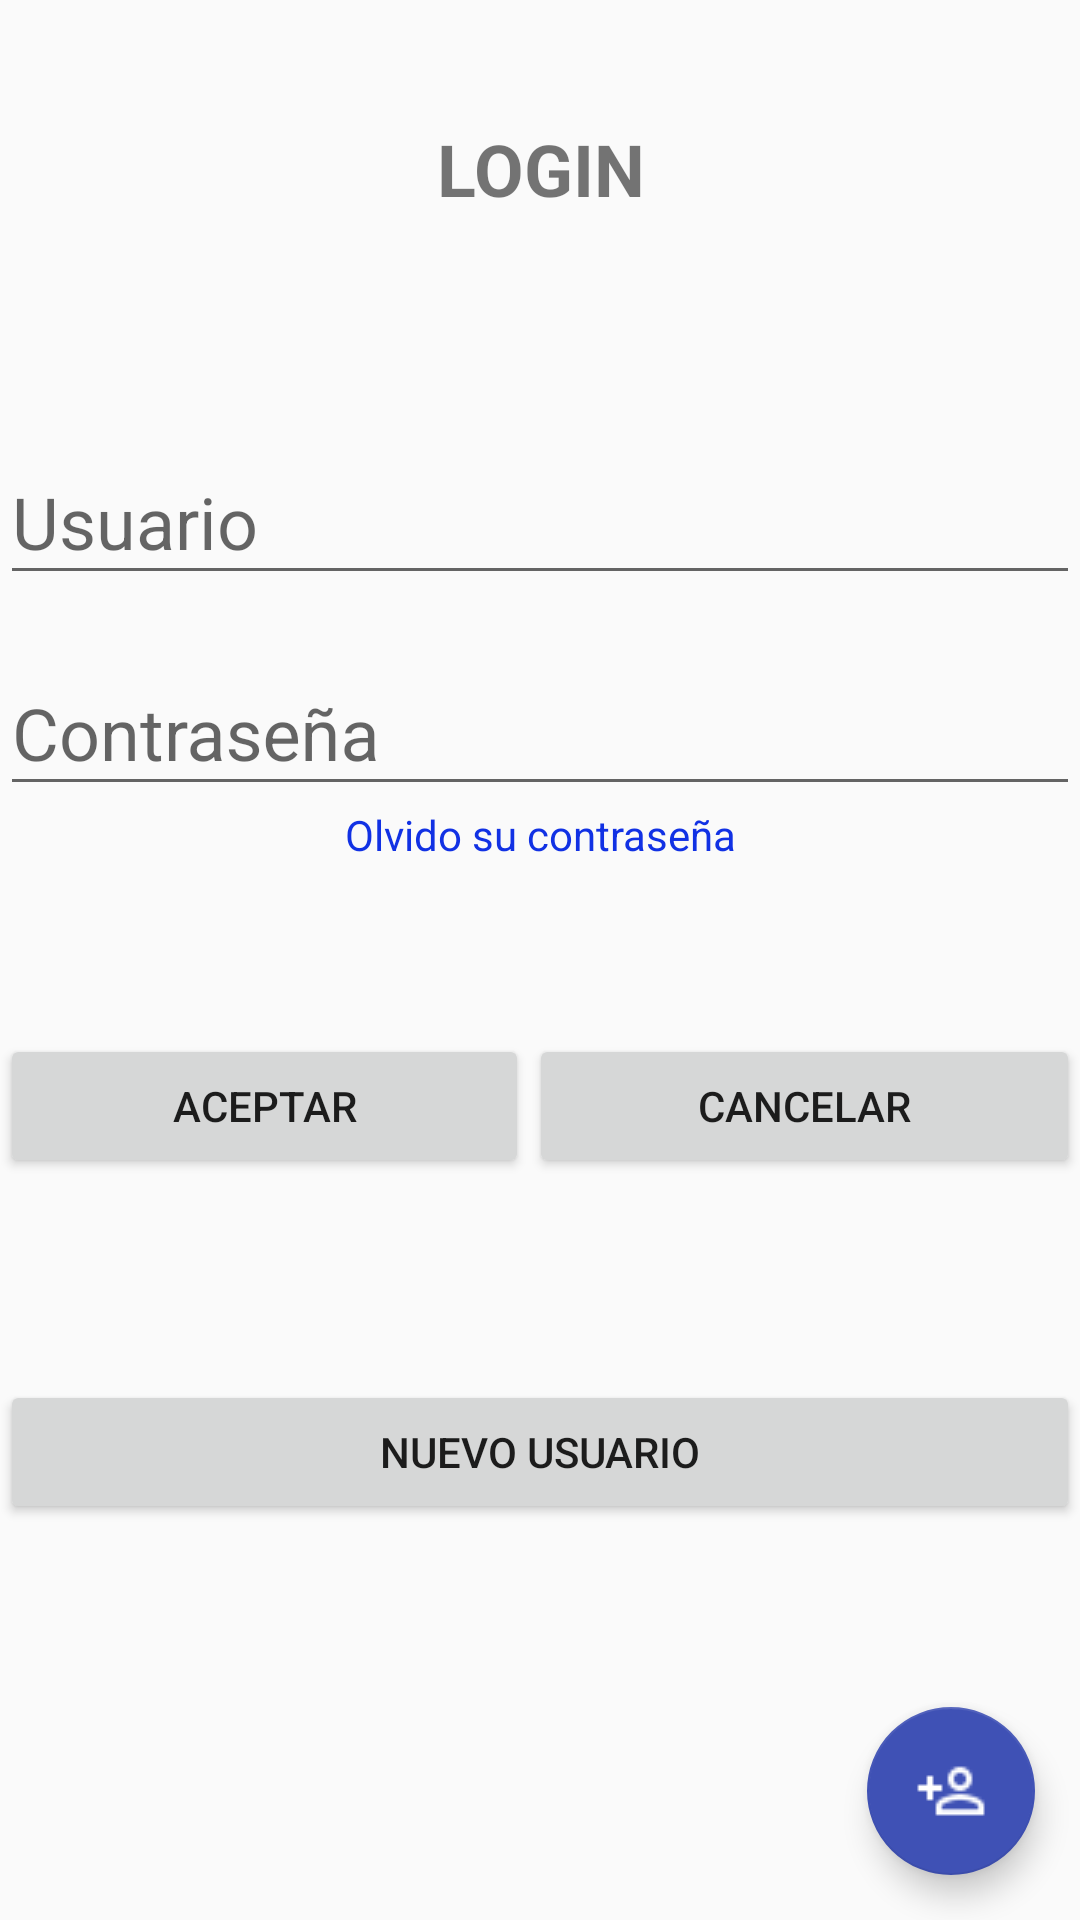

Locate icon controls on the screen. Image size 1080w x 1920h, boxes as (x1, y1, x2, y2).
usuario: (867, 1707, 1035, 1875)
